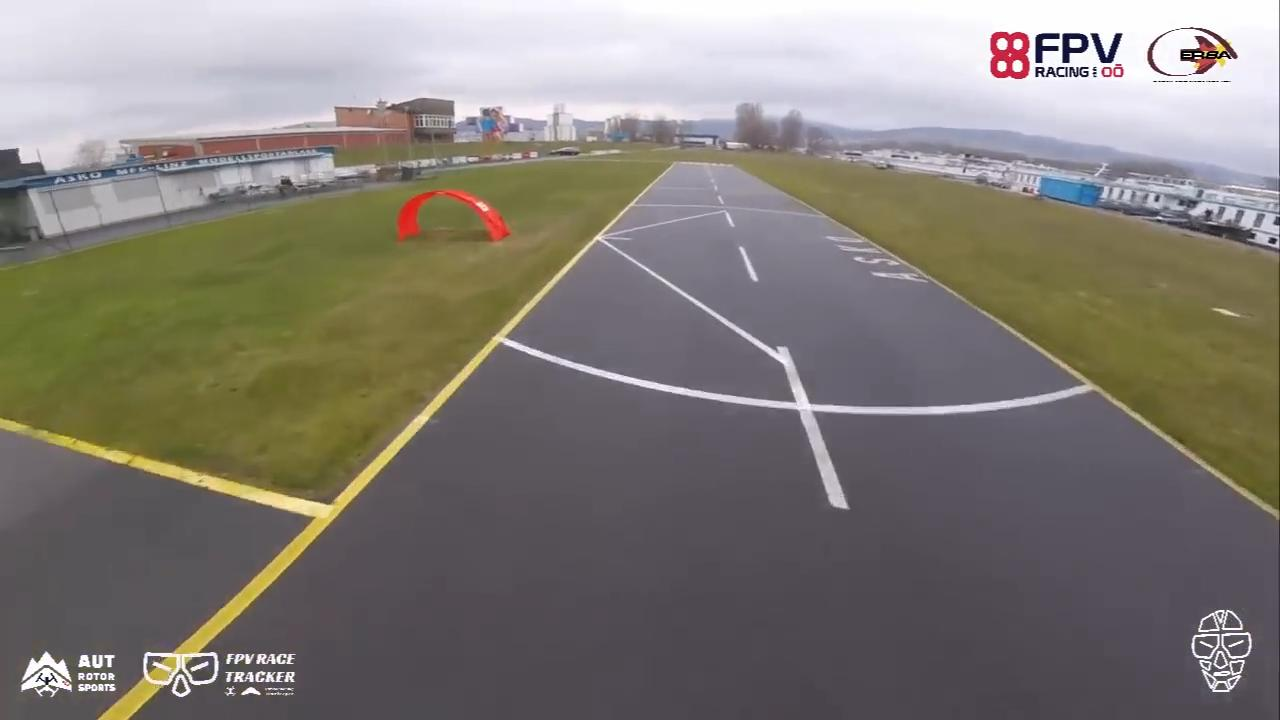gate: (395, 191, 509, 242)
